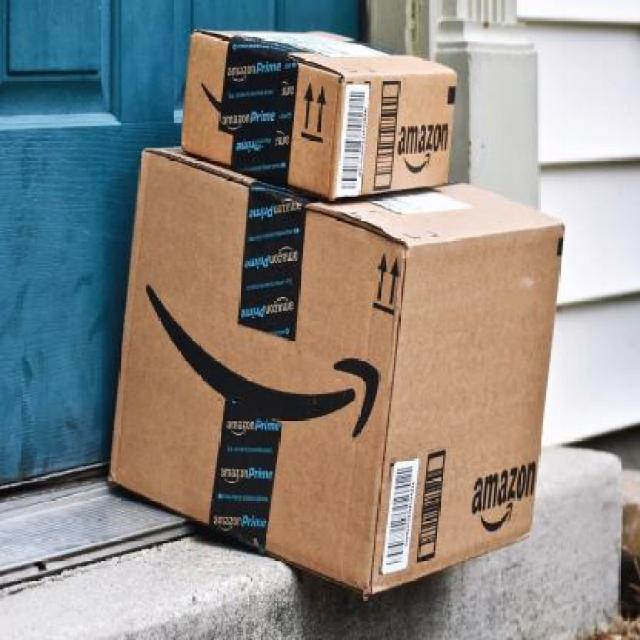box: (106, 143, 564, 590), (182, 22, 454, 204)
